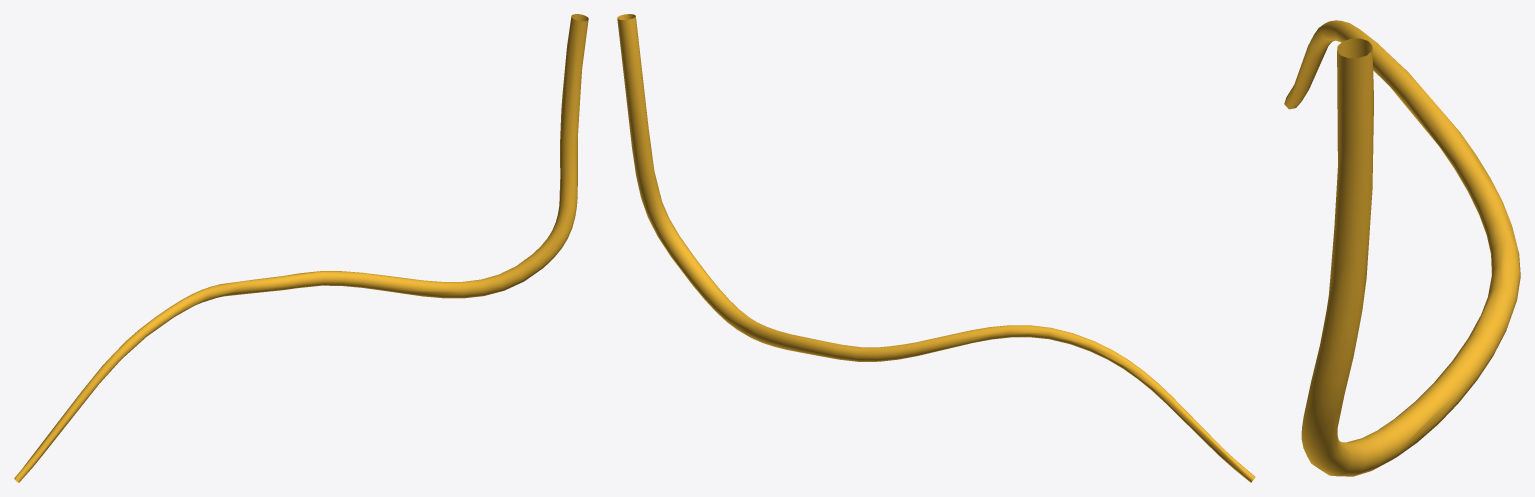
File: nervoso-deep-branch-of-ulnar-nerve-r.glb
3 renders of one model, left to right at view 1: azimuth 30°, elevation 25°; view 2: azimuth 150°, elevation 25°; view 3: azimuth 270°, elevation 25°, orthographic. The views are drawn at different scales.
Parts seen in each view (by area): view 1: Deep branch of ulnar nerve.r; view 2: Deep branch of ulnar nerve.r; view 3: Deep branch of ulnar nerve.r.
Boxes of the visible parts, <box> form: Deep branch of ulnar nerve.r: <box>14,14,588,482</box>; Deep branch of ulnar nerve.r: <box>617,14,1255,482</box>; Deep branch of ulnar nerve.r: <box>1284,20,1520,476</box>.
Size of the model in its own units: 0.0375 by 0.0191 by 0.00653.
